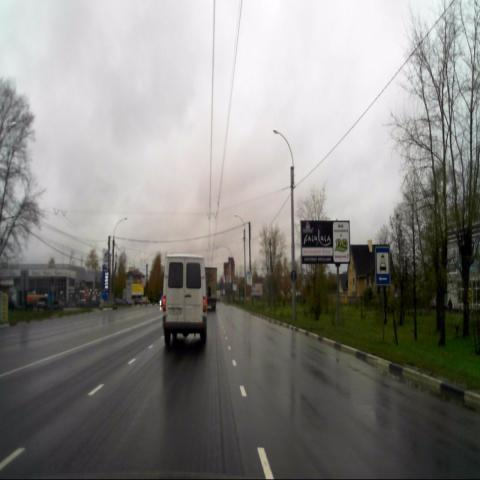7_5: (375, 246, 390, 285)
